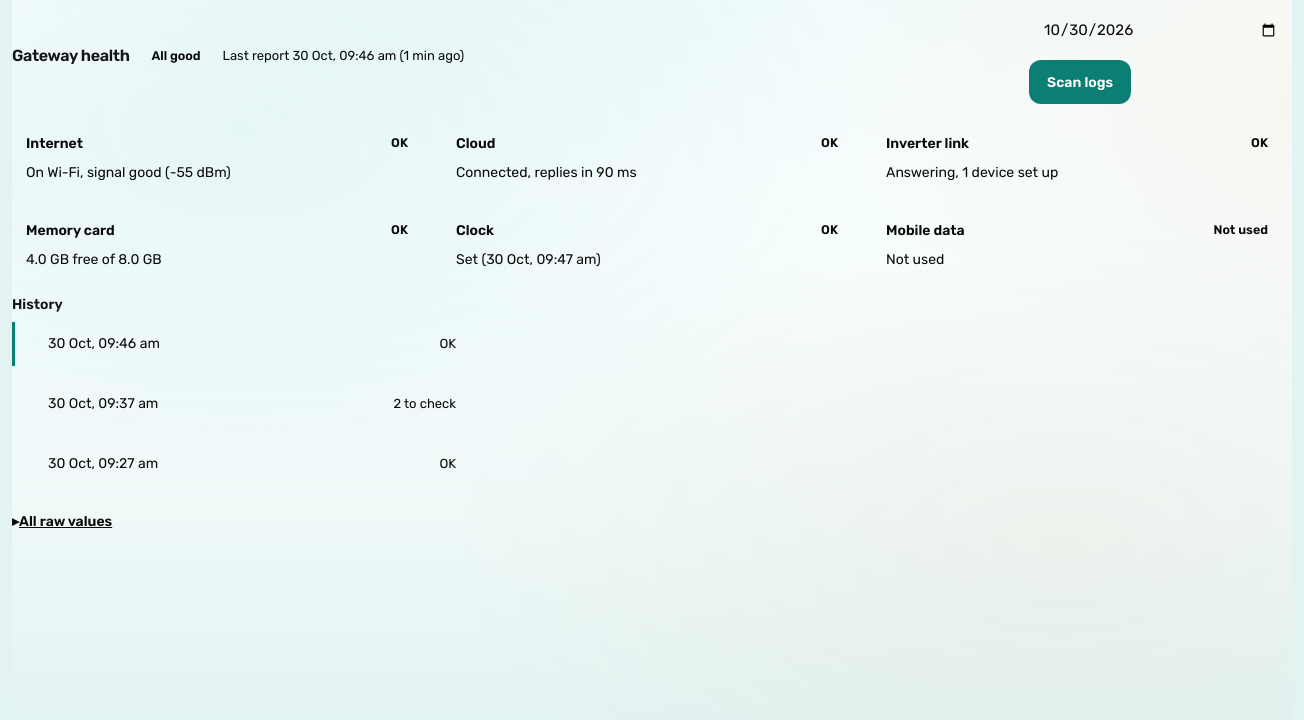
OpsHealth › HL13 history switches the shown check
Check: the text "All good" is shown, box [152,48,201,63]
Click the button with aria-label "Health report " at (103, 404), box [12,382,472,426]
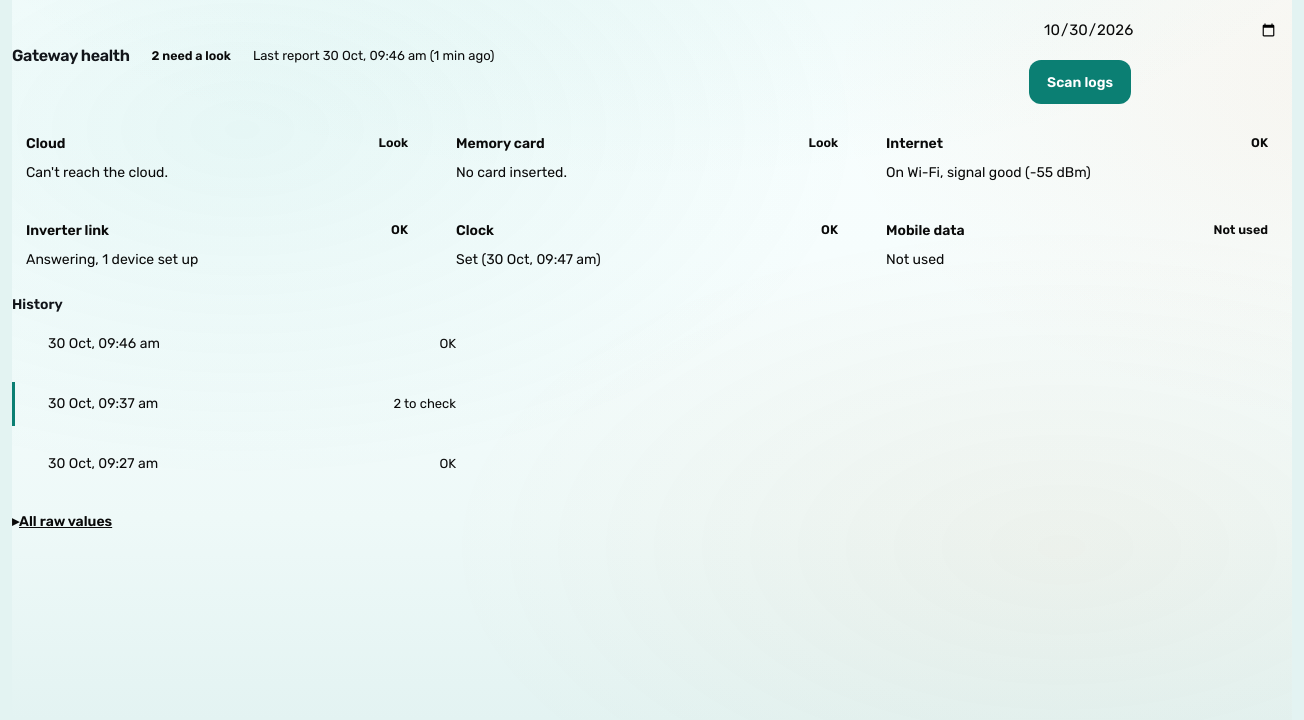
Check: the text "2 need a look" is shown, box [152,48,231,63]
